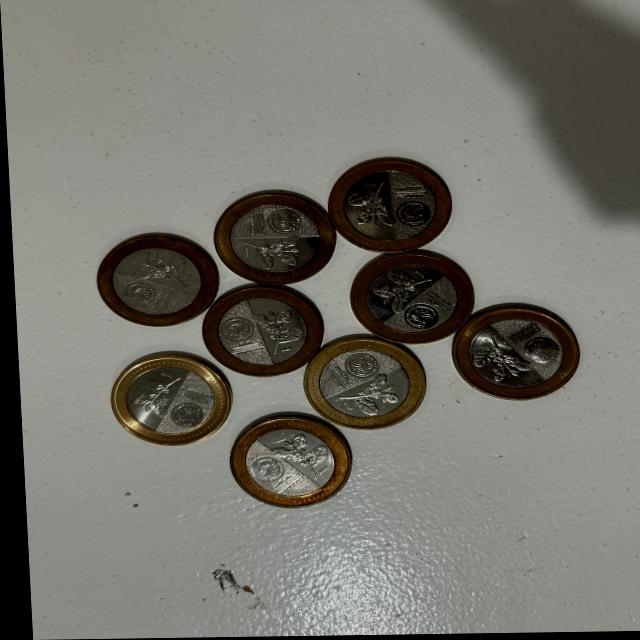20_New_Back: (368, 269, 434, 315), (121, 376, 183, 420), (346, 181, 396, 229), (248, 308, 300, 354), (470, 339, 524, 383), (337, 377, 399, 415), (235, 235, 300, 268), (271, 438, 323, 479), (135, 247, 187, 288)
